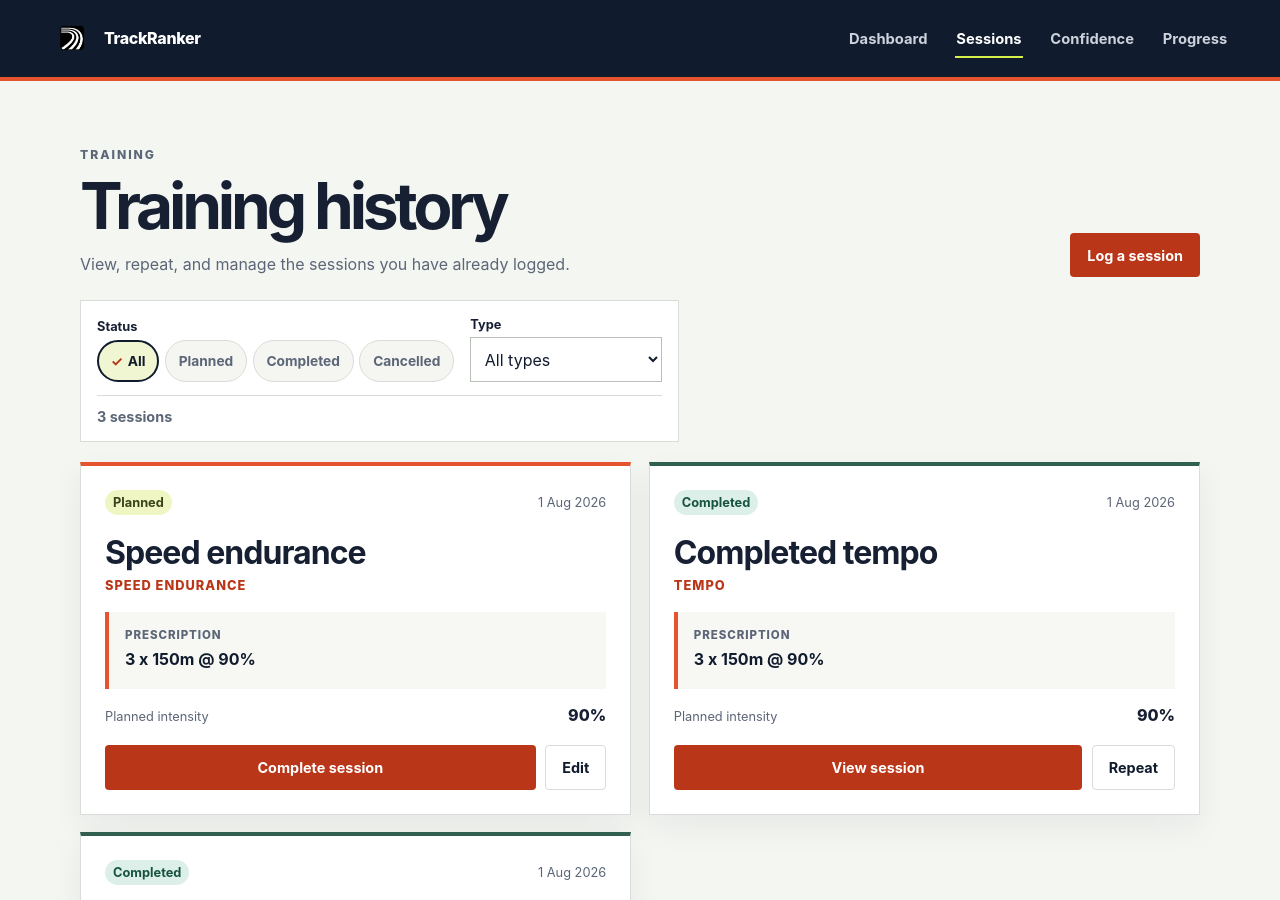
Test: training sessions › combines type and status filters
Select "Speed Endurance" in the dropdown labelled "Type" at (566, 360), box [470,338,662,382]
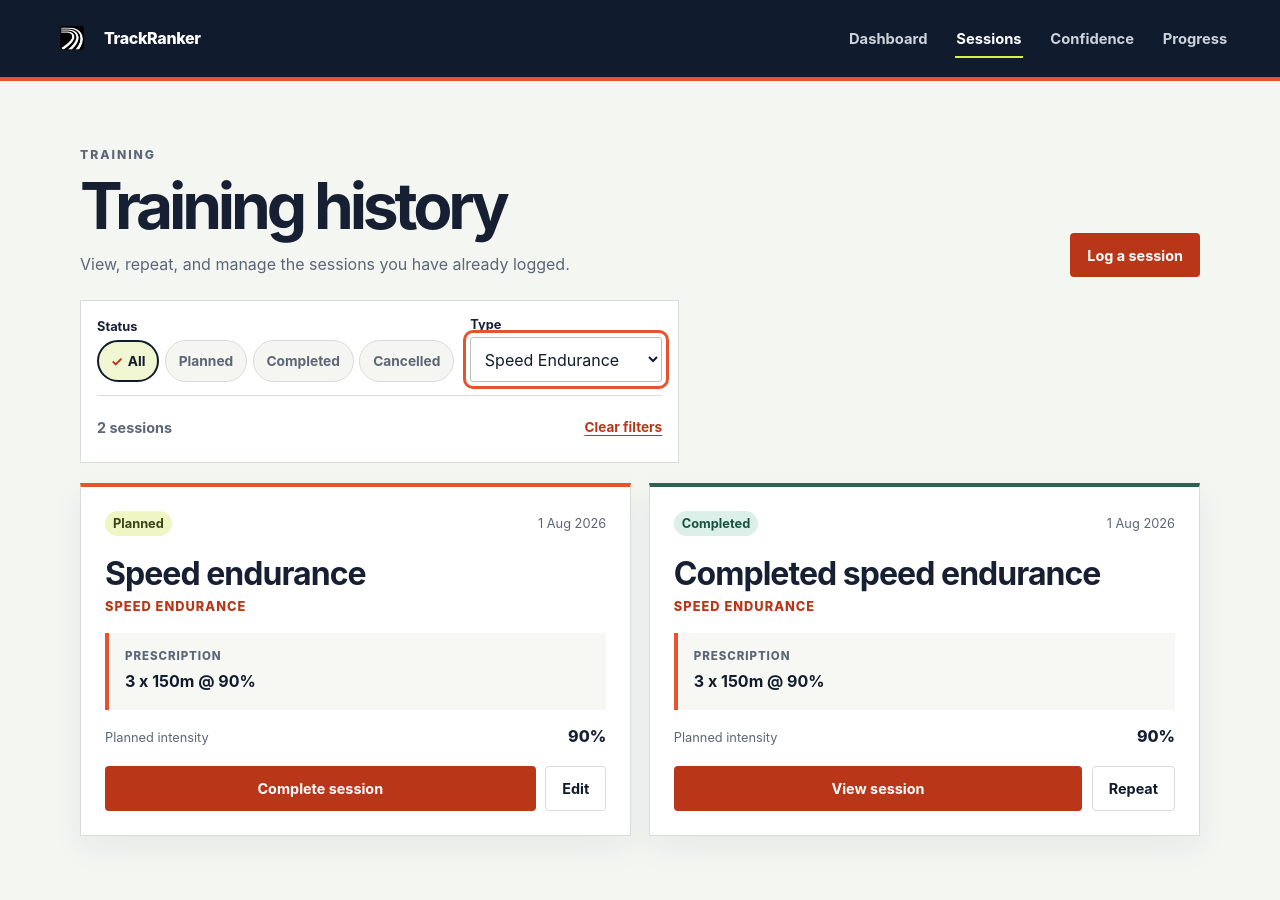
Click the button "Completed" at (303, 361), box [253,340,354,382]
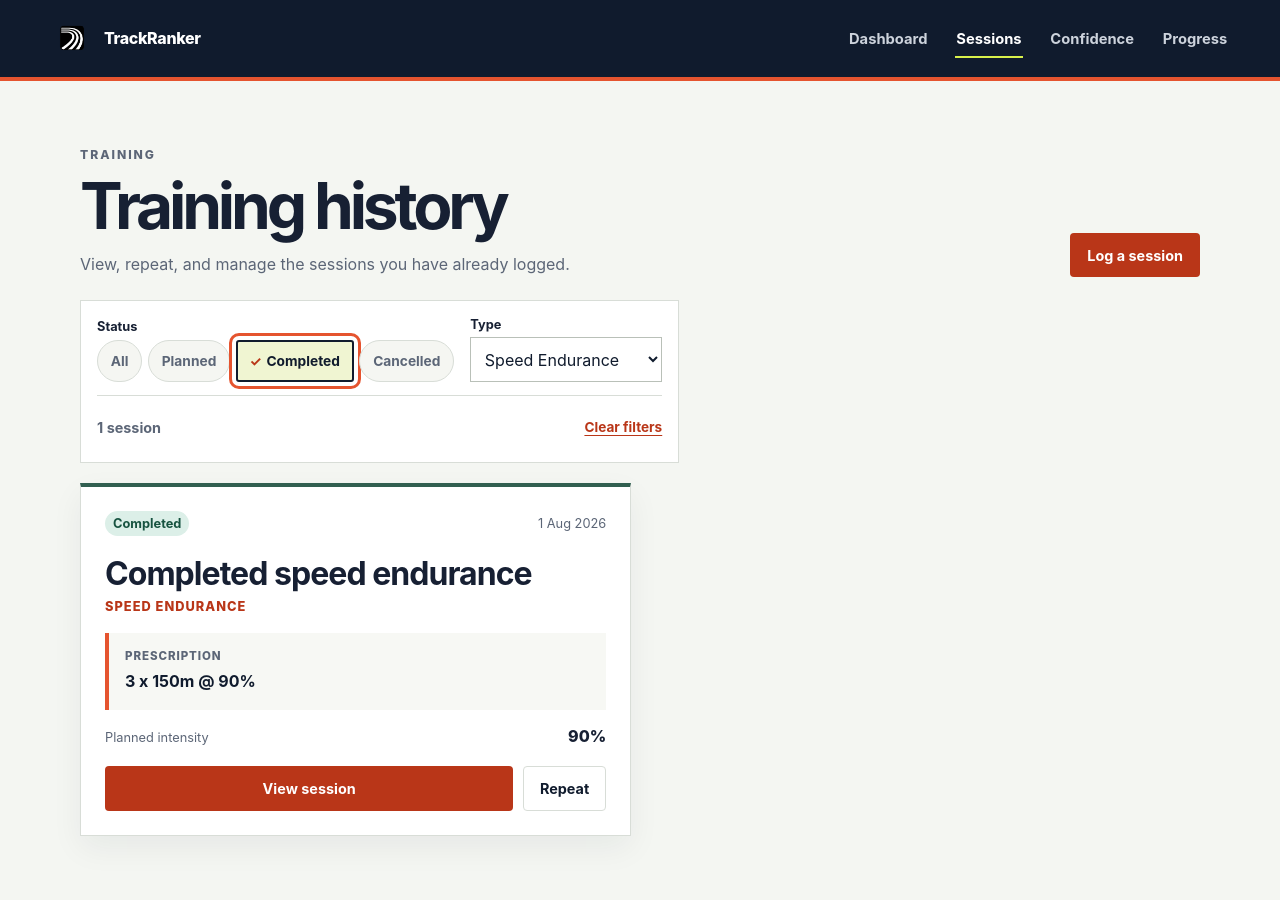
Expected: the heading "Completed speed endurance" is shown, [105,554,606,593]
Now the text "1 session" is shown, box [97,419,161,436]
